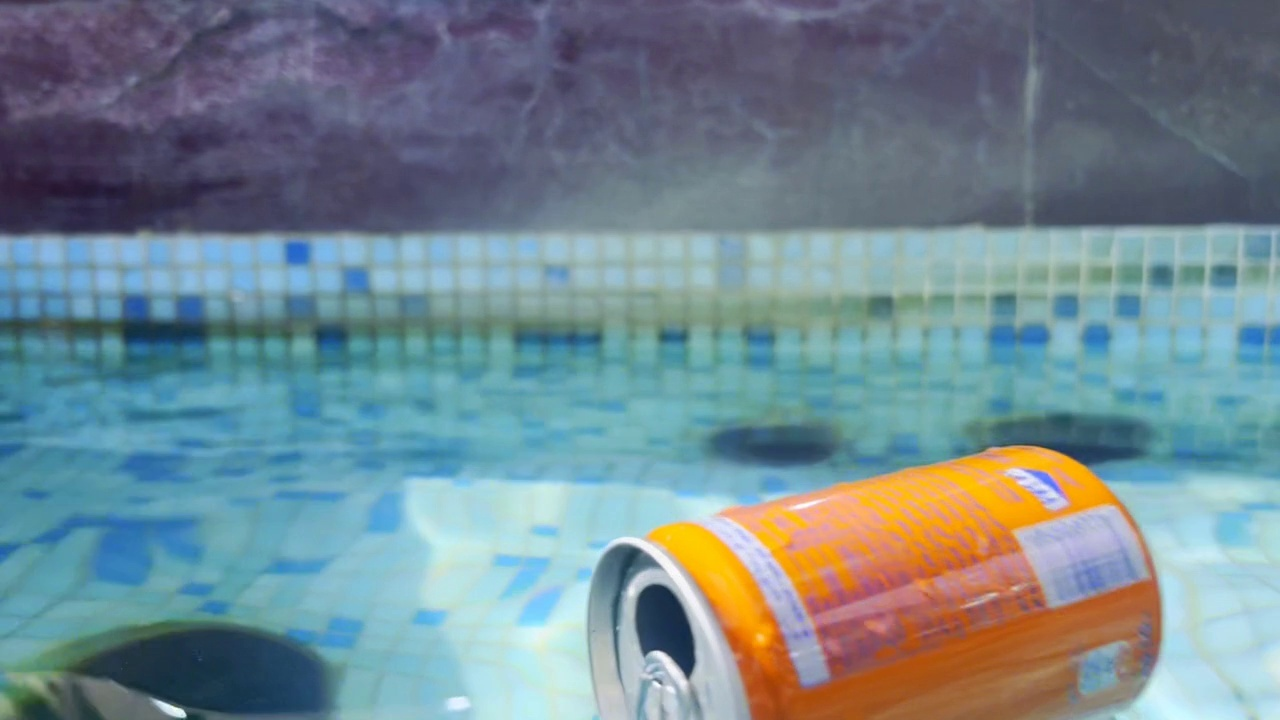debris: (571, 425, 1171, 720)
